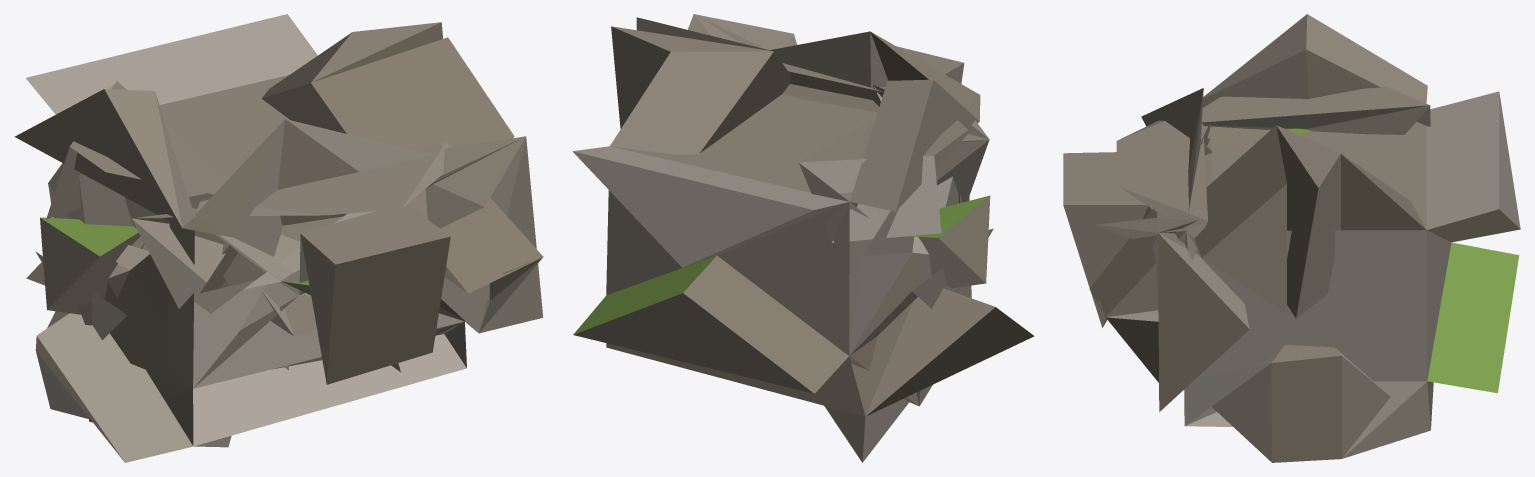
The model's file is ChunkGranite_c.fbx.
3 views of the same model, side by side, from view 1: azimuth 30°, elevation 25°; view 2: azimuth 150°, elevation 25°; view 3: azimuth 270°, elevation 25° (orthographic). The views are drawn at different scales.
Parts seen in each view (by area): view 1: ChunkGranite_c; view 2: ChunkGranite_c; view 3: ChunkGranite_c.
Boxes of the visible parts, x1,y1,x2,y2 form: ChunkGranite_c: (14, 14, 543, 462); ChunkGranite_c: (573, 14, 1034, 462); ChunkGranite_c: (1063, 14, 1520, 462).
Size of what is drawn, in the model's own units: 0.4979 by 0.4139 by 0.5024.
